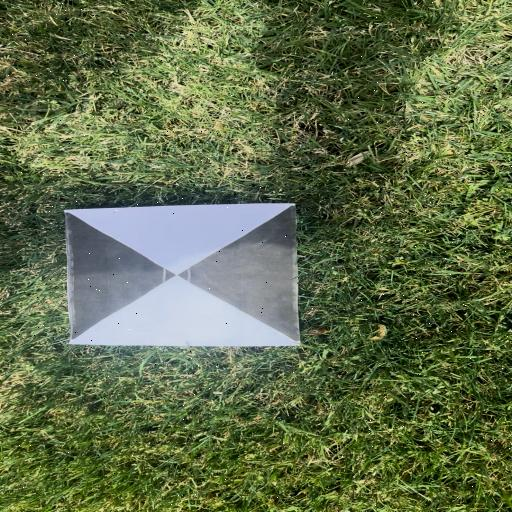target: (69, 205, 300, 346)
